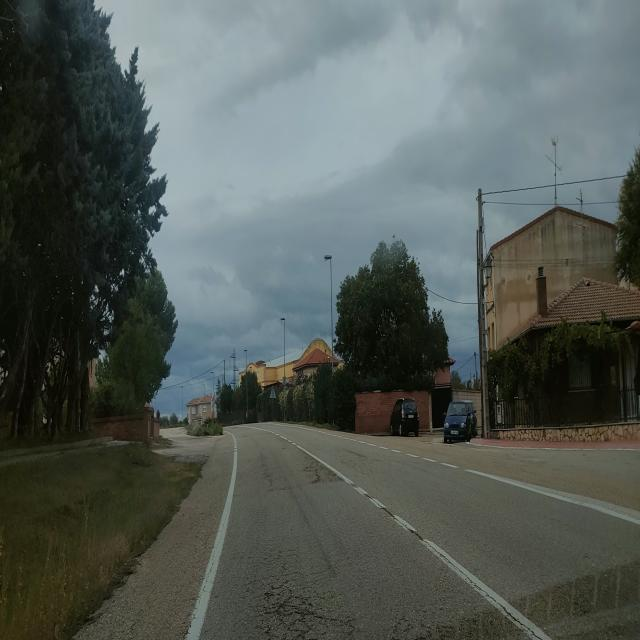Poth-hole: (256, 559, 369, 638), (297, 454, 332, 494), (258, 445, 276, 490)
